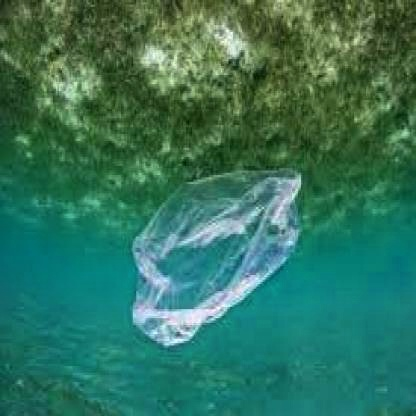pbag: (127, 162, 307, 352)
